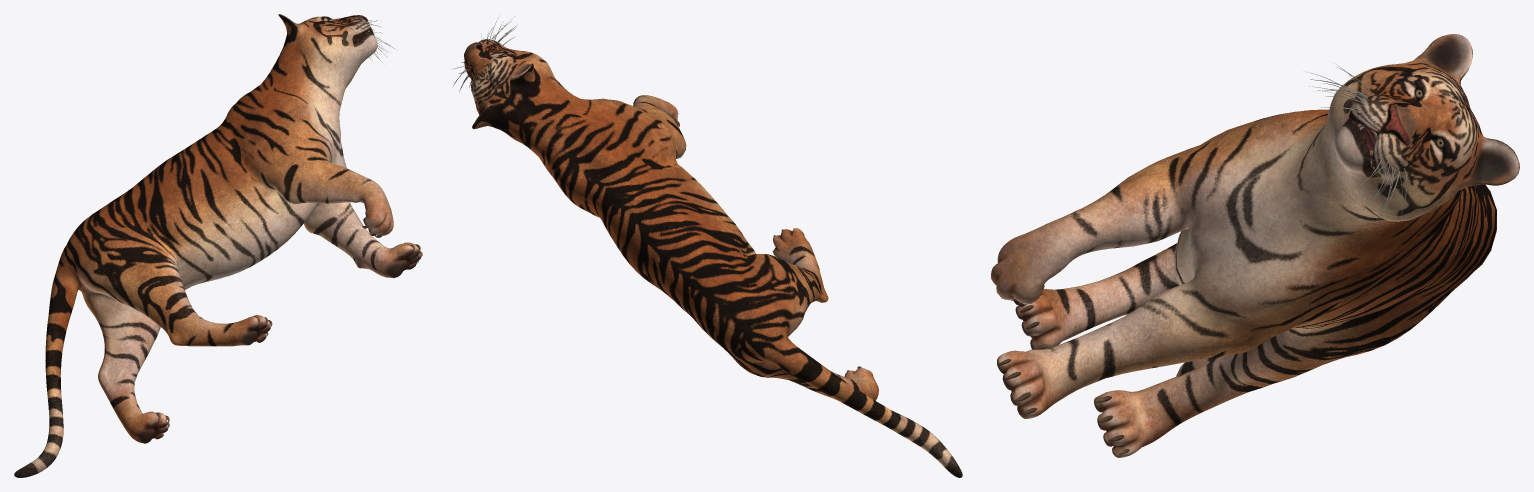
Rendered from tiger.glb.
3 views of the same model, side by side, from view 1: azimuth 30°, elevation 25°; view 2: azimuth 150°, elevation 25°; view 3: azimuth 270°, elevation 25° (orthographic). The views are drawn at different scales.
Visible parts, largest first — view 1: tiger.1; view 2: tiger.1; view 3: tiger.1.
Part boxes in pixels (x1,y1,x2,y2): tiger.1: (14, 14, 422, 477); tiger.1: (452, 16, 962, 477); tiger.1: (991, 34, 1519, 457).
Bounding box in the file's own units: 18.37 × 14.38 × 9.94.
Materials: 1 (1 with a texture image).
